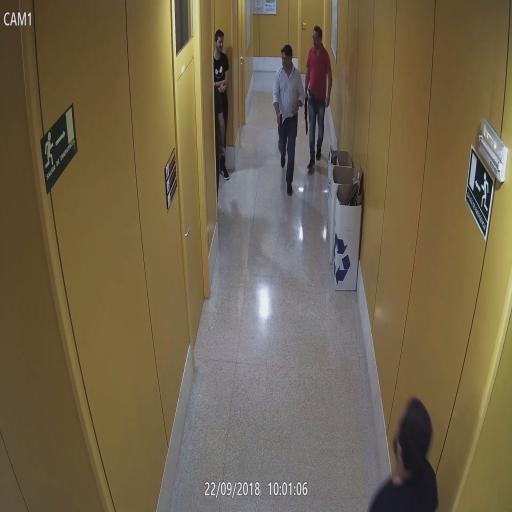Handgun: (276, 114, 283, 136), (308, 87, 314, 105)
